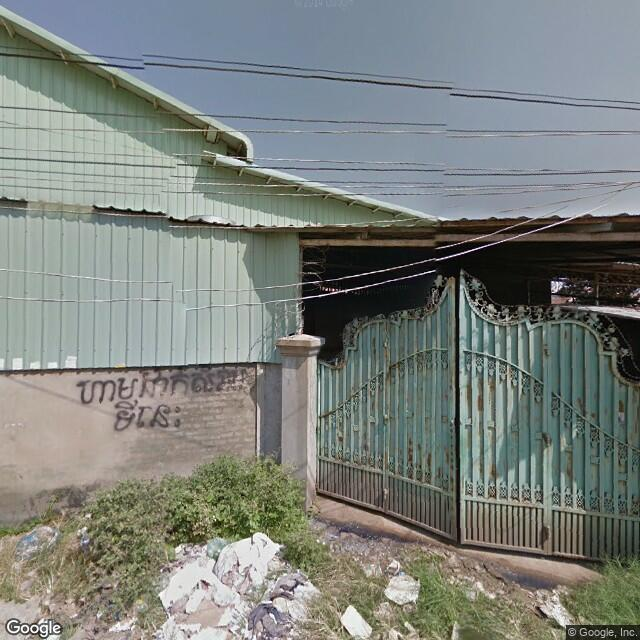litter: (153, 526, 321, 640), (372, 553, 435, 604), (336, 596, 387, 640), (529, 589, 584, 629), (19, 528, 41, 554)
